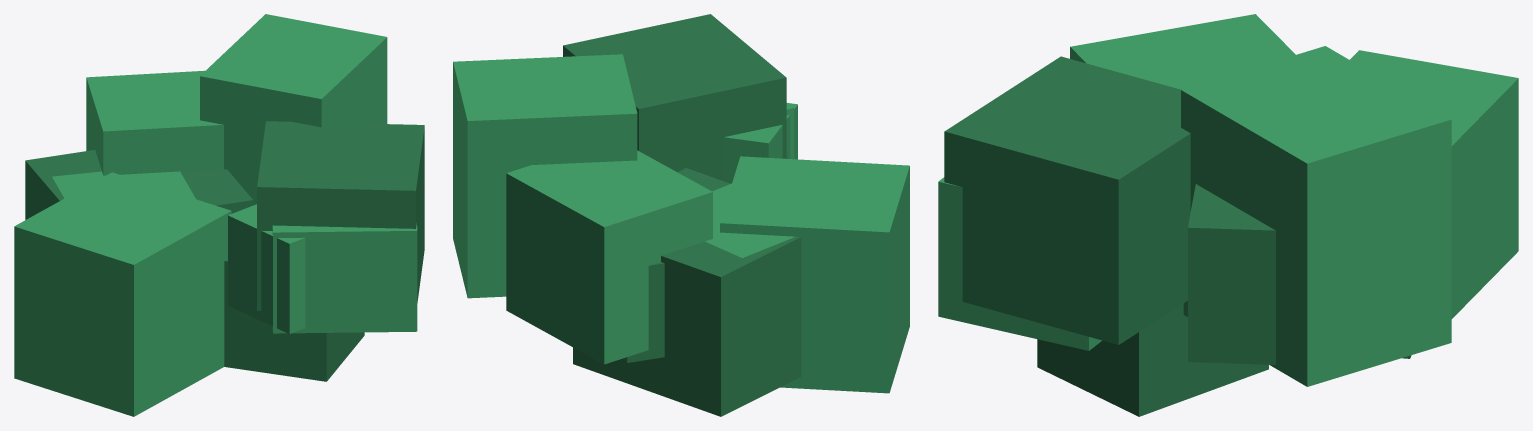
The model's file is bushLow.glb.
3 renders of one model, left to right at view 1: azimuth 30°, elevation 25°; view 2: azimuth 150°, elevation 25°; view 3: azimuth 270°, elevation 25°, orthographic. The views are drawn at different scales.
Visible parts, largest first — view 1: bushLow_leafMid, bushLow_leafDark; view 2: bushLow_leafMid, bushLow_leafDark; view 3: bushLow_leafMid, bushLow_leafDark.
Part boxes in pixels (x1=…): bushLow_leafMid: x1=14, y1=14, x2=417, y2=416; bushLow_leafDark: x1=25, y1=116, x2=424, y2=381; bushLow_leafMid: x1=453, y1=54, x2=909, y2=393; bushLow_leafDark: x1=563, y1=14, x2=801, y2=416; bushLow_leafMid: x1=938, y1=14, x2=1518, y2=386; bushLow_leafDark: x1=944, y1=56, x2=1411, y2=416.
Bounding box in the file's own units: 2.23 × 1.26 × 2.14.
